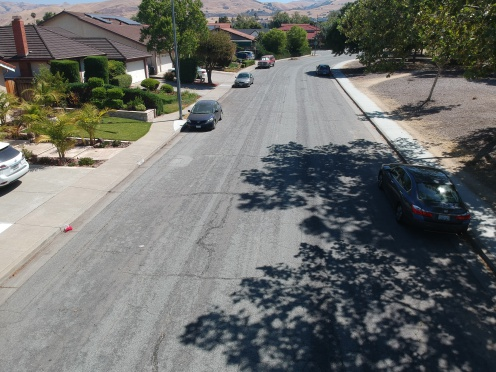plastic bag: (60, 221, 80, 234)
